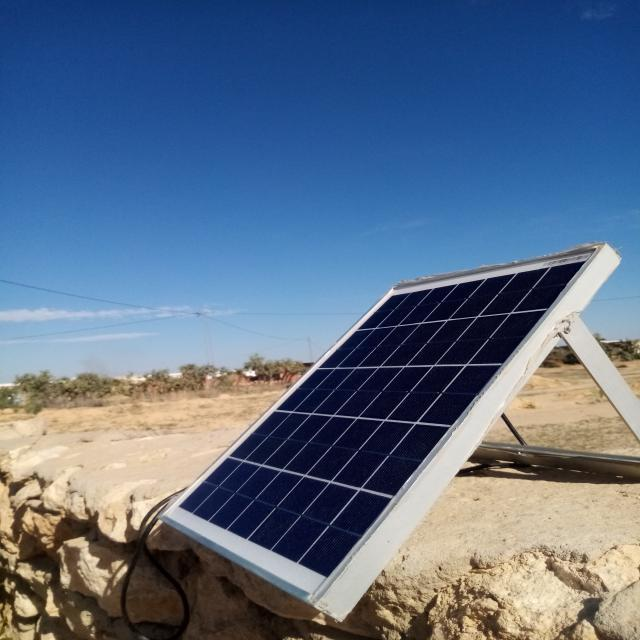no faulty: (156, 245, 603, 600)
